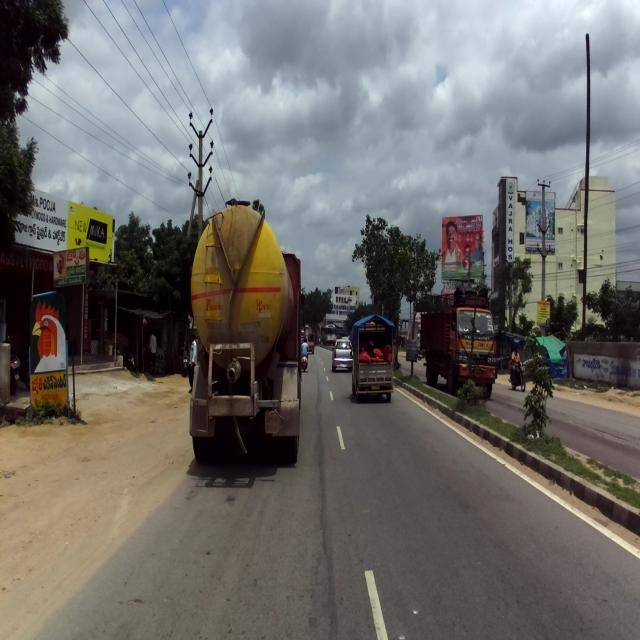truck: (185, 198, 306, 467), (419, 286, 498, 398), (351, 311, 394, 401)
